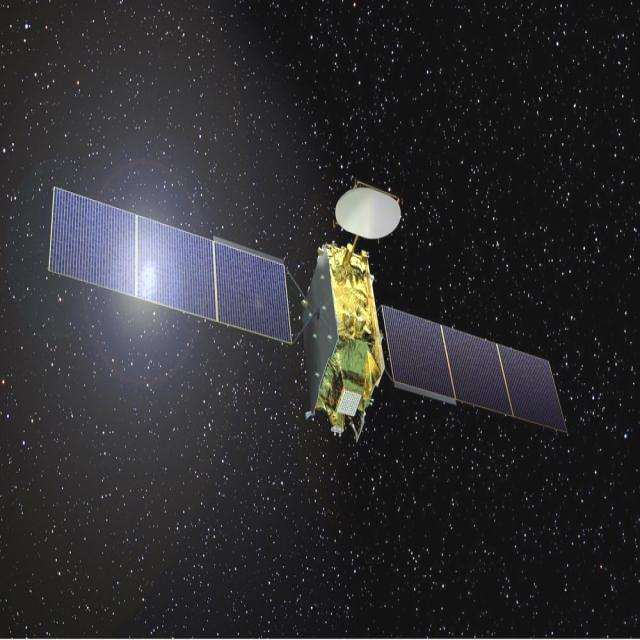medium_debris: (36, 162, 580, 470)
